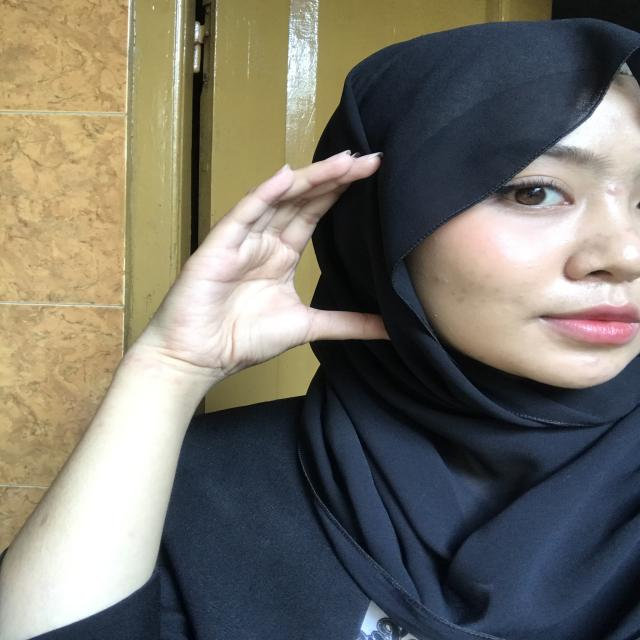mendengar: (144, 145, 433, 396)
